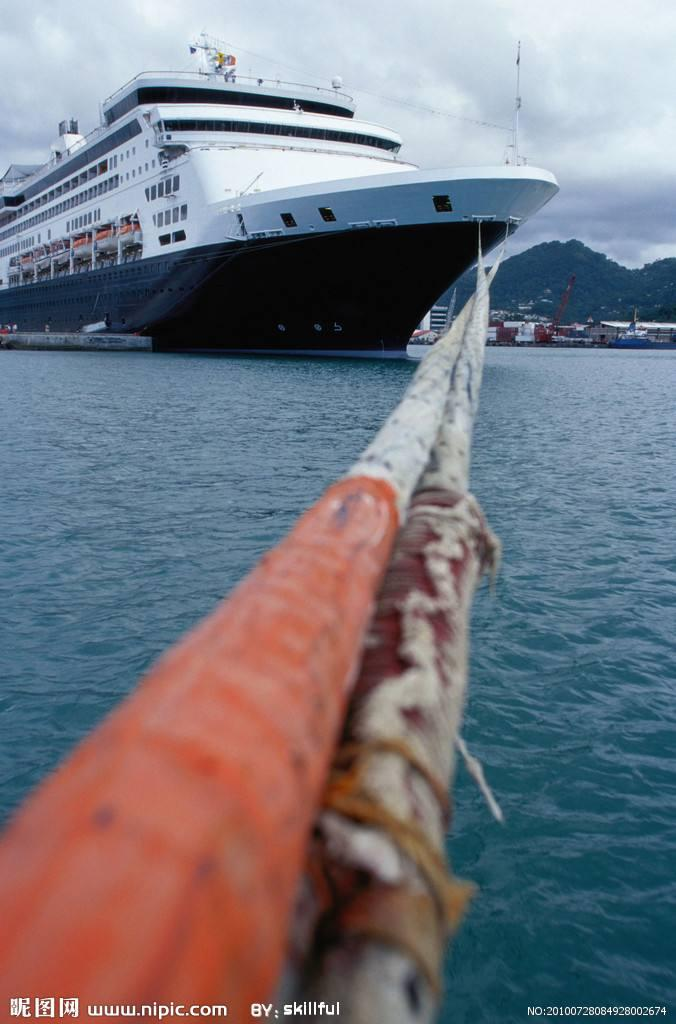youlun: (9, 44, 552, 355)
